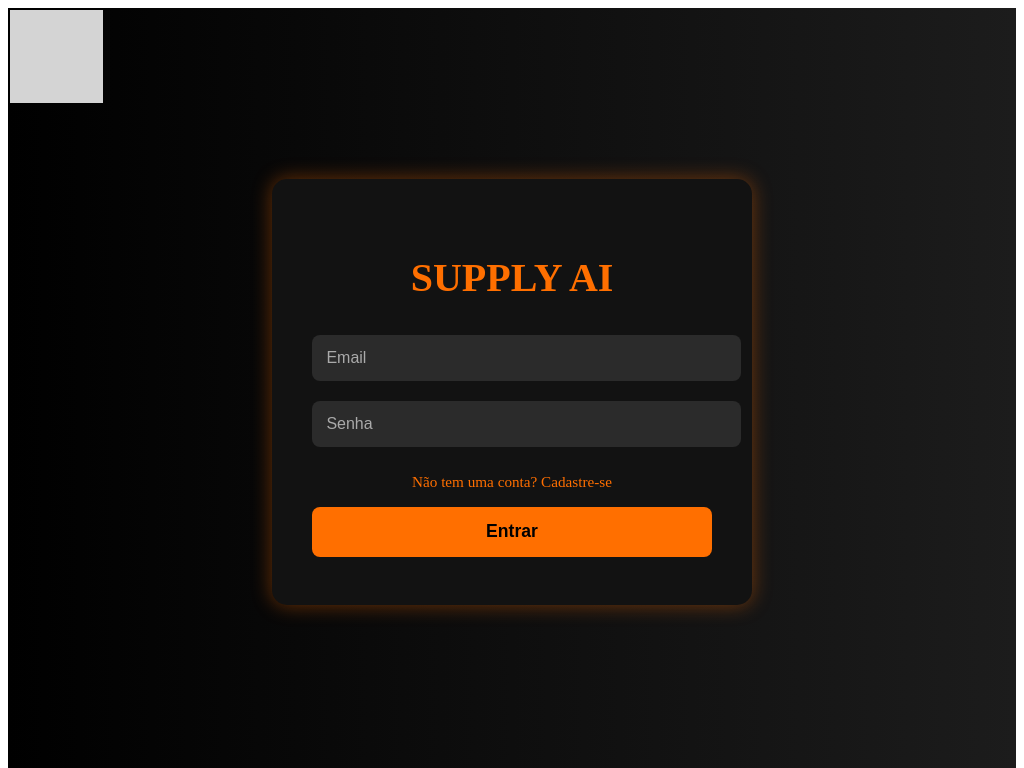
Test: Login.vue › login bem-sucedido
In the field with placeholder "Email": (526, 358) [312, 335, 741, 381], type "teste@example.com"
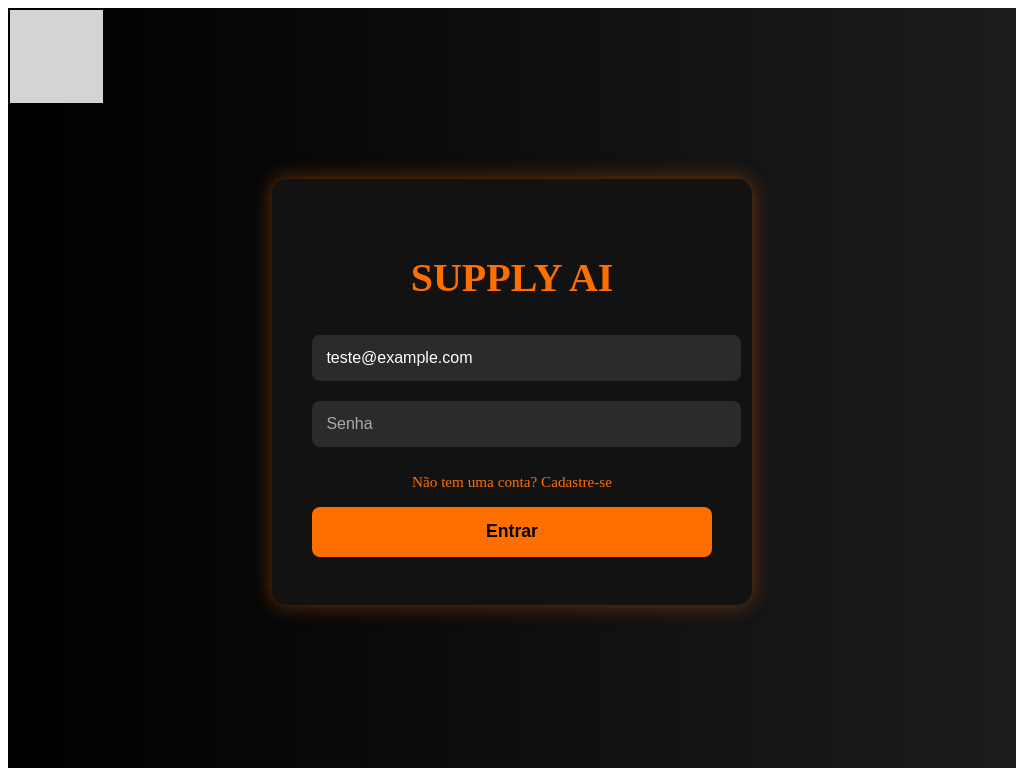
In the password field with placeholder "Senha": (526, 424) [312, 401, 741, 447], type "senha123"
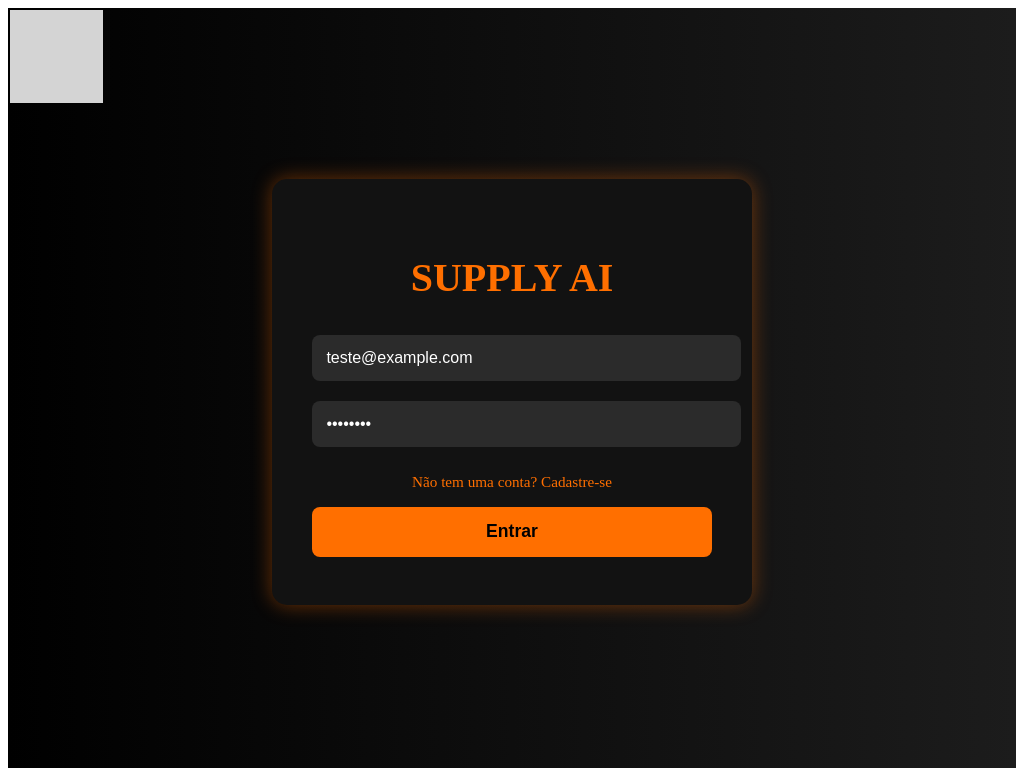
Submit the form, box [312, 325, 712, 557]
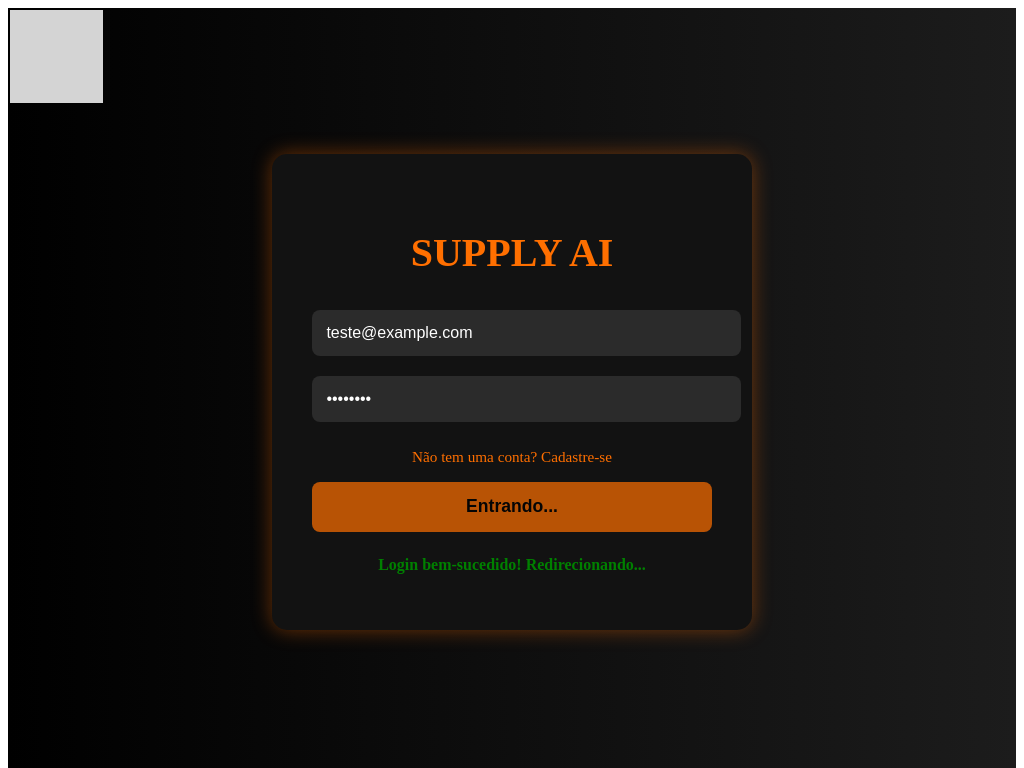
Expected: the text "Login bem-sucedido! Redirecionando..." is shown, [378, 556, 646, 573]
